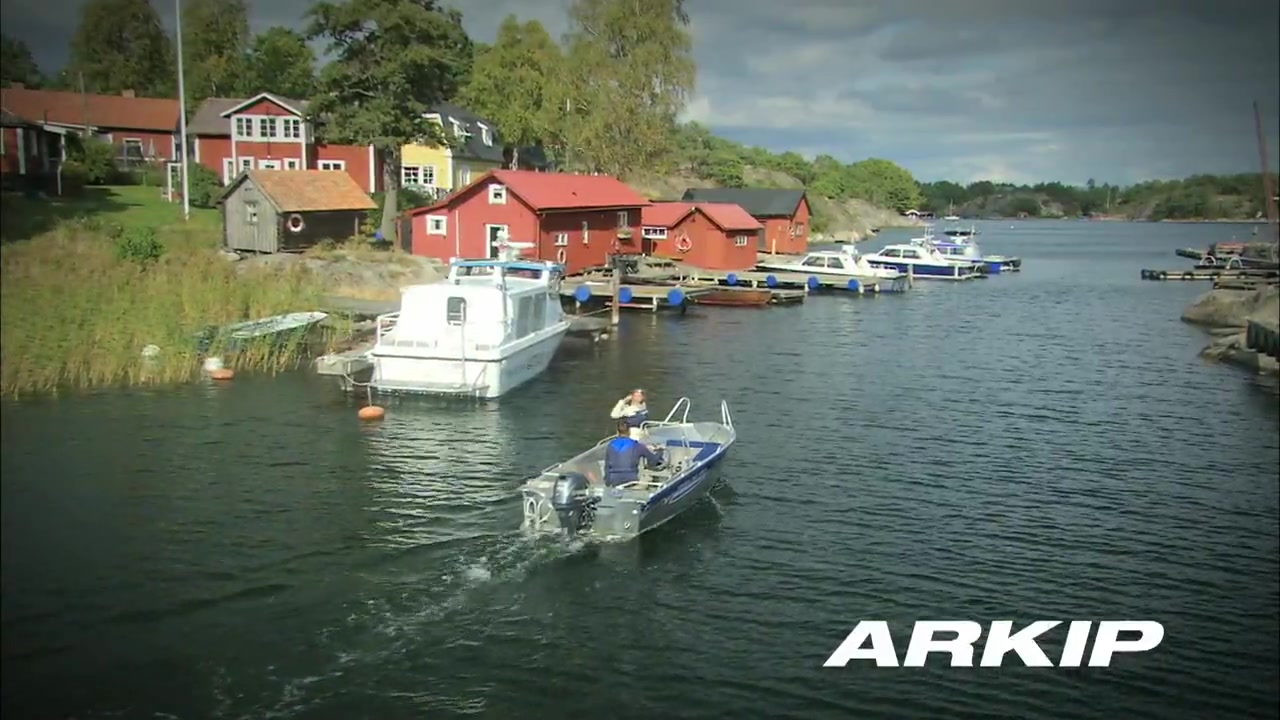boat: (517, 396, 740, 554)
